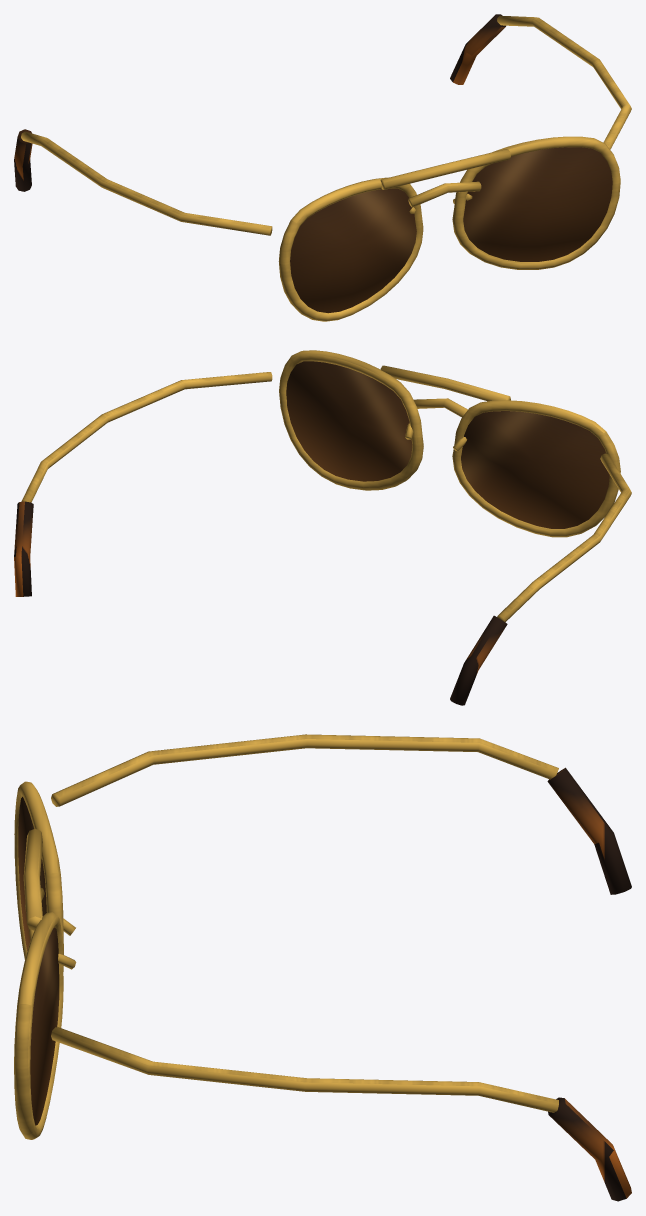
The model's file is eye_aviators.glb.
3 views of the same model, one above another, from view 1: azimuth 30°, elevation 25°; view 2: azimuth 150°, elevation 25°; view 3: azimuth 270°, elevation 25° (orthographic). The views are drawn at different scales.
Visible parts, largest first — view 1: eye_aviators; view 2: eye_aviators; view 3: eye_aviators.
Part boxes in pixels (x1,y1,x2,y2): eye_aviators: [14, 14, 631, 321]; eye_aviators: [14, 350, 631, 705]; eye_aviators: [14, 734, 631, 1201].
Size of the model in its own units: 0.1918 by 0.0478 by 0.1432.
3 materials, 3 textured.
